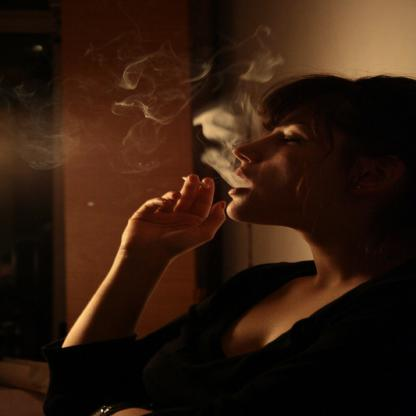smoking: (182, 177, 209, 187)
